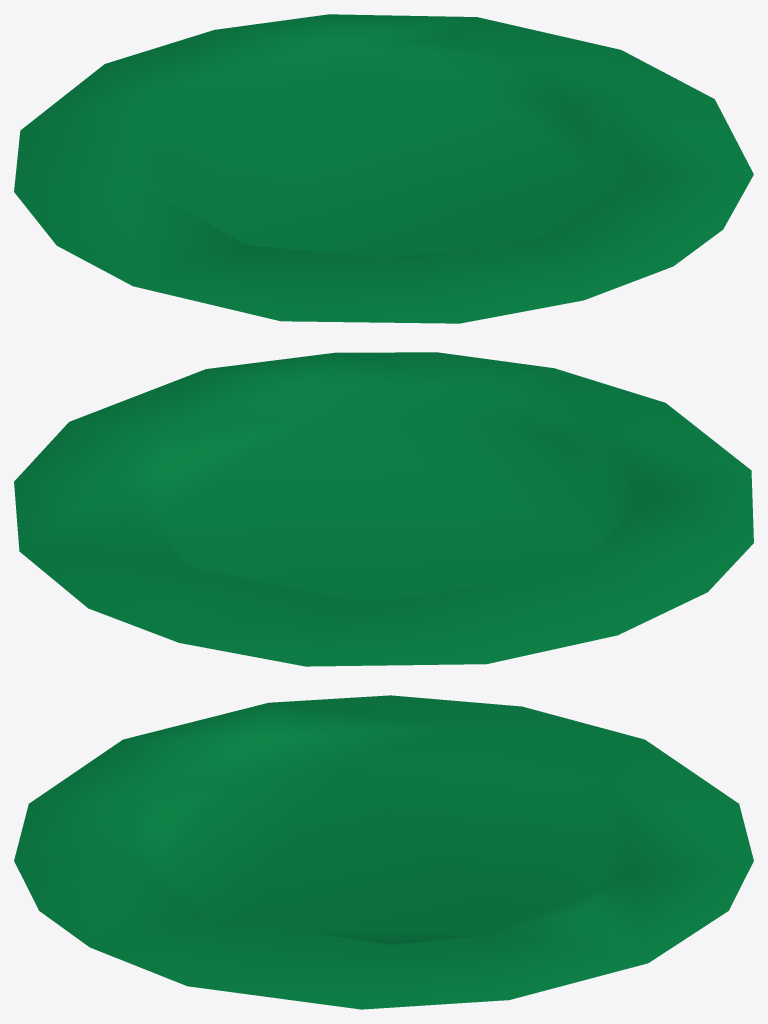
The model's file is HoleCollider_Remeshed.fbx.
The picture shows the model from 3 angles, top to bottom: view 1: azimuth 30°, elevation 25°; view 2: azimuth 150°, elevation 25°; view 3: azimuth 270°, elevation 25°; orthographic projection.
Visible parts, largest first — view 1: RetopoGeo; view 2: RetopoGeo; view 3: RetopoGeo.
Part boxes in pixels (<box>): RetopoGeo: <box>14,14,753,323</box>; RetopoGeo: <box>14,352,753,666</box>; RetopoGeo: <box>14,695,753,1009</box>.
Size of the model in its own units: 1.24 by 0.0382 by 1.23.
